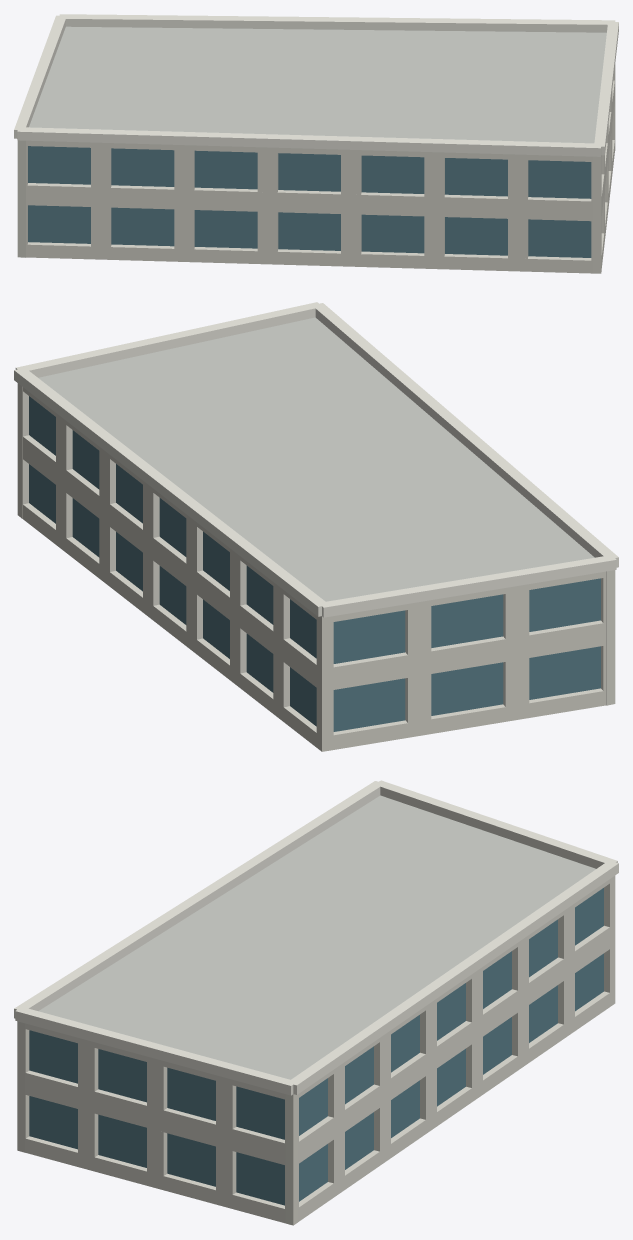
Rendered from sb_1556523907.far.glb.
3 renders of one model, top to bottom at view 1: azimuth 30°, elevation 25°; view 2: azimuth 150°, elevation 25°; view 3: azimuth 270°, elevation 25°, orthographic. The views are drawn at different scales.
Parts seen in each view (by area): view 1: roof, wall, glass, trim; view 2: roof, wall, glass, trim; view 3: roof, wall, glass, trim.
Boxes of the visible parts, box(x1,y1,x2,y2) form: roof: box(29, 26, 606, 143); wall: box(17, 65, 615, 273); glass: box(28, 146, 591, 257); trim: box(14, 14, 618, 156); roof: box(38, 317, 594, 601); wall: box(17, 383, 615, 751); glass: box(29, 396, 600, 731); trim: box(14, 302, 618, 617); roof: box(38, 795, 595, 1079); wall: box(17, 876, 615, 1225); glass: box(29, 888, 603, 1205); trim: box(14, 780, 618, 1095).
Size of the model in its own units: 29.93 by 6.44 by 25.04.
